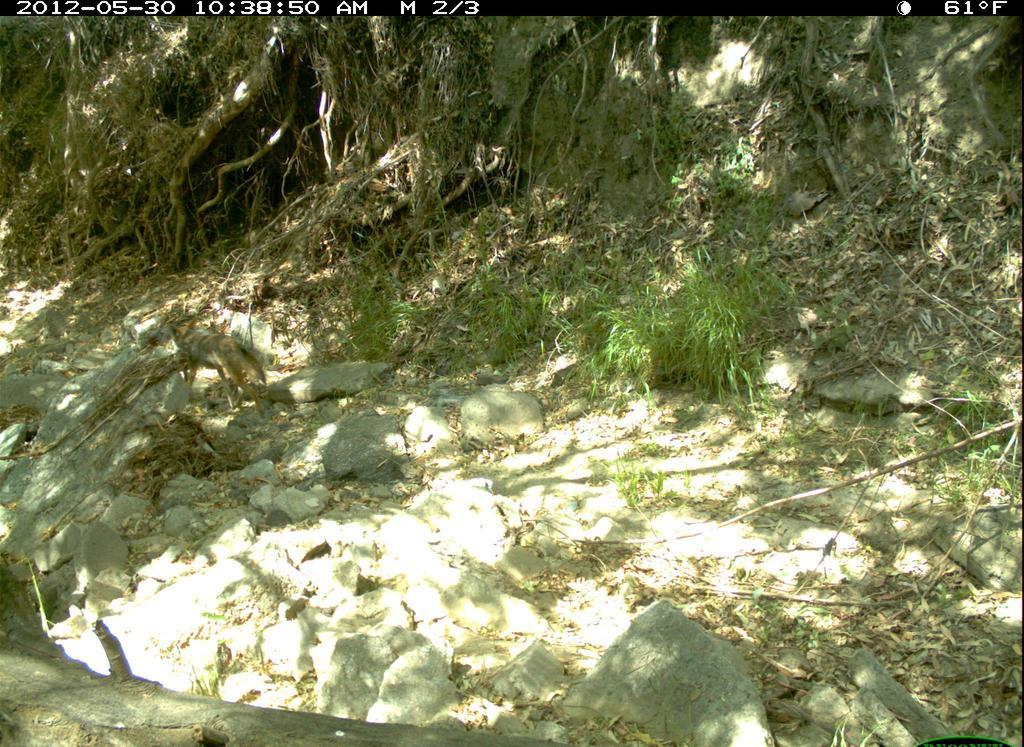coyote: (166, 318, 276, 428)
